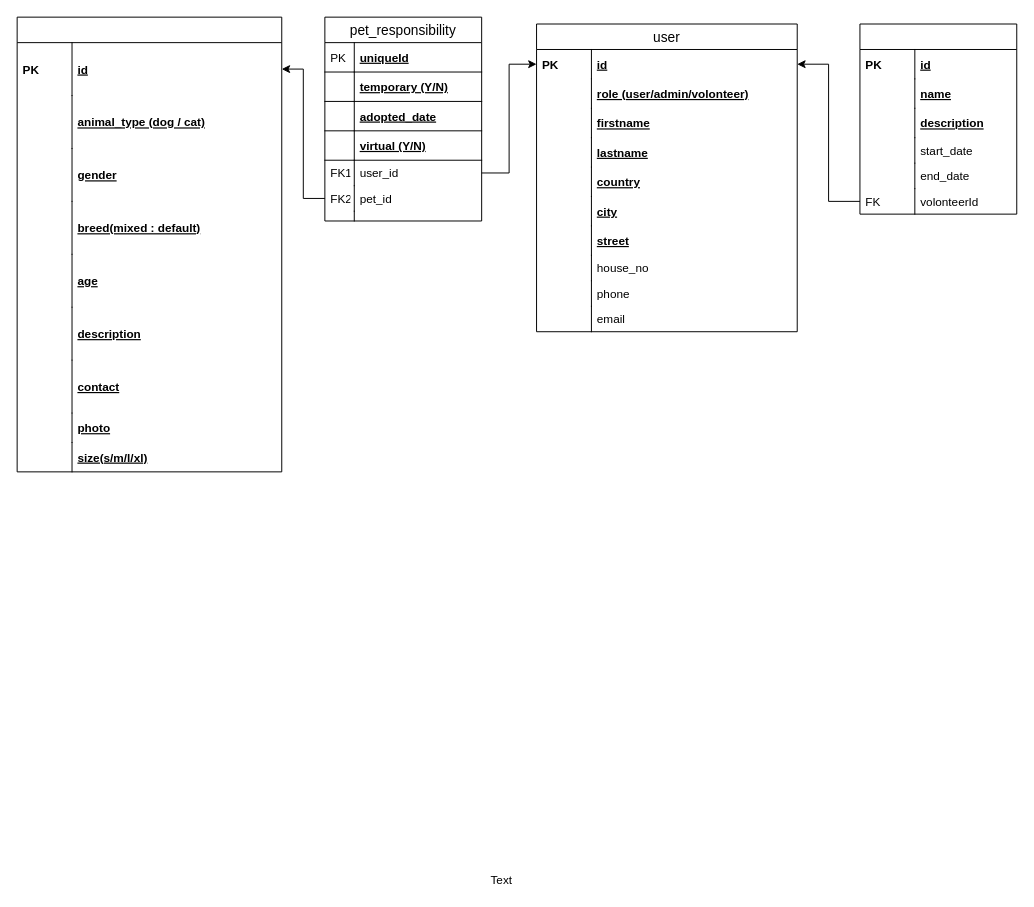
The diagram is 1034 pixels wide and 907 high, and some of its shapes have lost their labels. Here are the shapes that lost their labels. From the top down, the box of each, then its label:
(859, 23, 1017, 214): Task
(16, 16, 282, 472): pet
